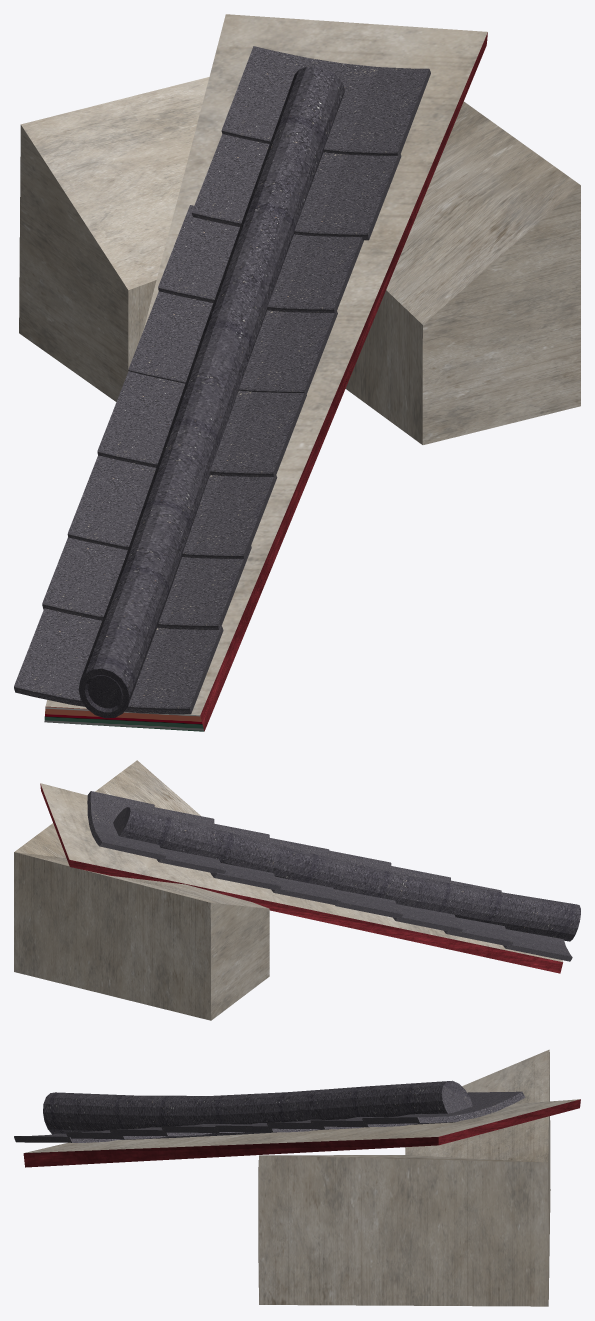
Rendered from SM_Roof_45.fbx.
3 views of the same model, one above another, from view 1: azimuth 30°, elevation 25°; view 2: azimuth 150°, elevation 25°; view 3: azimuth 270°, elevation 25° (orthographic). The views are drawn at different scales.
Visible parts, largest first — view 1: SM_Roof_45; view 2: SM_Roof_45; view 3: SM_Roof_45.
Boxes of the visible parts, x1=… form: SM_Roof_45: x1=14, y1=14, x2=580, y2=731; SM_Roof_45: x1=14, y1=760, x2=580, y2=1020; SM_Roof_45: x1=14, y1=1049, x2=580, y2=1306.
Bounding box in the file's own units: 431 × 440 × 202.
Materials: 4 (4 with a texture image).
